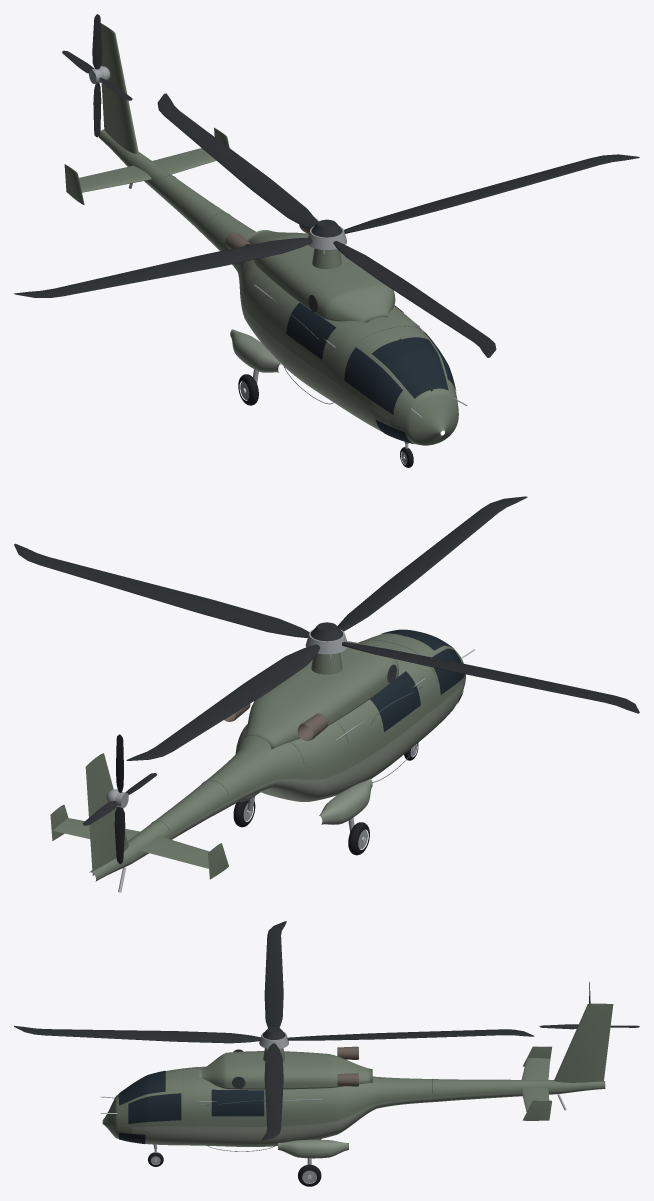
File: helicopter-visual.glb
3 renders of one model, top to bottom at view 1: azimuth 30°, elevation 25°; view 2: azimuth 150°, elevation 25°; view 3: azimuth 270°, elevation 25°, orthographic. The views are drawn at different scales.
Parts seen in each view (by area): view 1: Continuous shaped fuselage, Engine cowling, Main rotor blade 3, Main rotor blade 2, Fuselage lower skin, Nose cone, Main rotor blade 1, Cockpit windscreen, Main rotor blade 0, Single swept vertical fin, Cockpit side window -1, Cabin window -1 (+3 smaller); view 2: Continuous shaped fuselage, Engine cowling, Fuselage lower skin, Main rotor blade 1, Main rotor blade 2, Main rotor blade 0, Main rotor blade 3, Single swept vertical fin, Cabin window -1, Main gear sponson -1, Horizontal stabiliser -1, Cockpit side window -1 (+2 smaller); view 3: Continuous shaped fuselage, Fuselage lower skin, Engine cowling, Single swept vertical fin, Main rotor blade 0, Main rotor blade 3, Main rotor blade 1, Main rotor blade 2, Cabin window 1, Cockpit side window 1, Main gear sponson 1, Cockpit windscreen (+4 smaller).
Boxes of the visible parts, x1,y1,x2,y2 form: Continuous shaped fuselage: (98,129,446,416); Engine cowling: (247,230,395,322); Main rotor blade 3: (14,237,312,297); Main rotor blade 2: (157,93,317,229); Fuselage lower skin: (99,137,390,431); Nose cone: (389,374,458,445); Main rotor blade 1: (344,154,639,233); Cockpit windscreen: (372,337,448,398); Main rotor blade 0: (333,241,496,357); Single swept vertical fin: (101,23,138,153); Cockpit side window -1: (344,347,402,414); Cabin window -1: (286,302,336,359); Continuous shaped fuselage: (89,633,463,879); Engine cowling: (244,641,398,749); Fuselage lower skin: (95,683,463,881); Main rotor blade 1: (14,543,309,637); Main rotor blade 2: (126,644,319,760); Main rotor blade 0: (337,496,527,631); Main rotor blade 3: (342,642,639,713); Single swept vertical fin: (85,753,128,875); Cabin window -1: (370,671,420,731); Main gear sponson -1: (319,779,372,824); Horizontal stabiliser -1: (141,836,209,868); Cockpit side window -1: (432,648,464,694); Continuous shaped fuselage: (132,1066,605,1126); Fuselage lower skin: (132,1087,605,1146); Engine cowling: (199,1051,372,1089); Single swept vertical fin: (554,1003,613,1082); Main rotor blade 0: (14,1026,260,1043); Main rotor blade 3: (264,921,286,1027); Main rotor blade 1: (261,1043,283,1141); Main rotor blade 2: (287,1029,534,1040); Cabin window 1: (211,1089,264,1116); Cockpit side window 1: (128,1093,181,1123); Main gear sponson 1: (278,1139,348,1158); Cockpit windscreen: (119,1070,165,1105).
Size of what is drawn, in the model's own units: 13.19 by 5.02 by 15.87.
